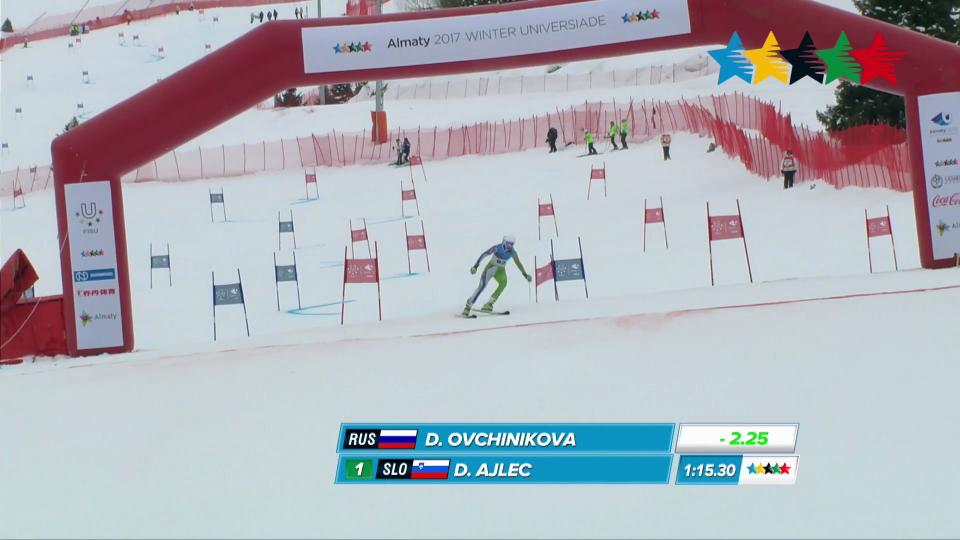gate: (690, 190, 723, 294), (735, 197, 761, 289), (363, 237, 387, 324), (203, 257, 226, 345), (235, 262, 260, 340), (337, 243, 361, 324), (572, 235, 590, 300)
